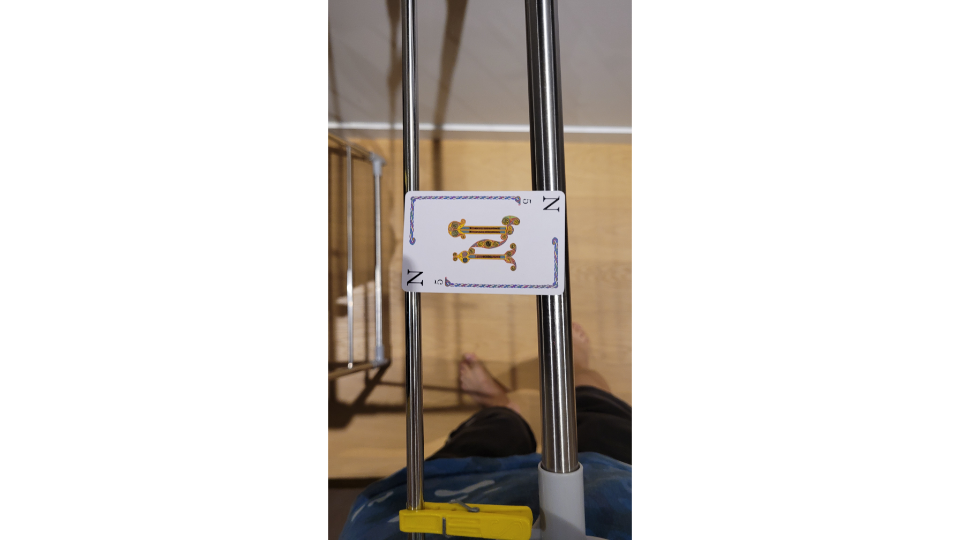N: (401, 188, 570, 296)
